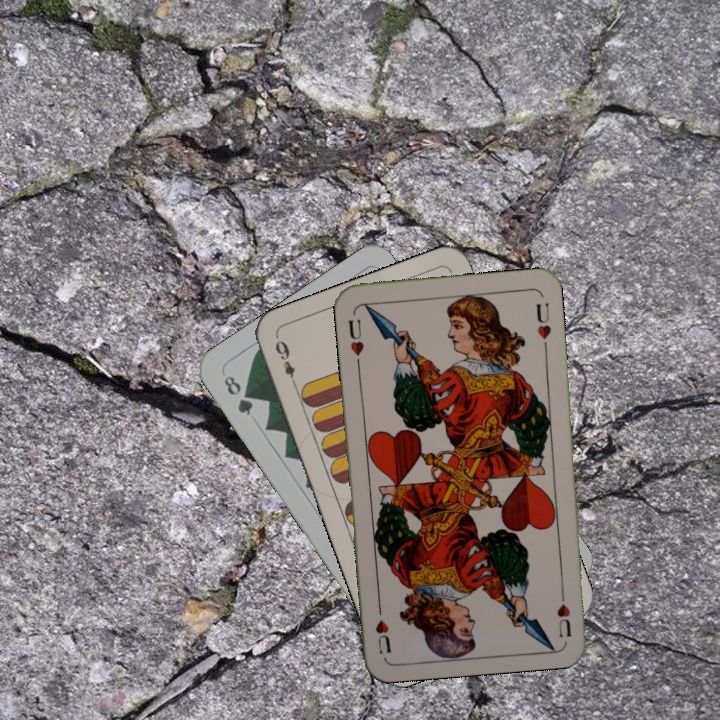E9: (271, 336, 299, 391)
G8: (219, 371, 256, 419)
HU: (553, 582, 574, 641), (344, 315, 366, 368)
